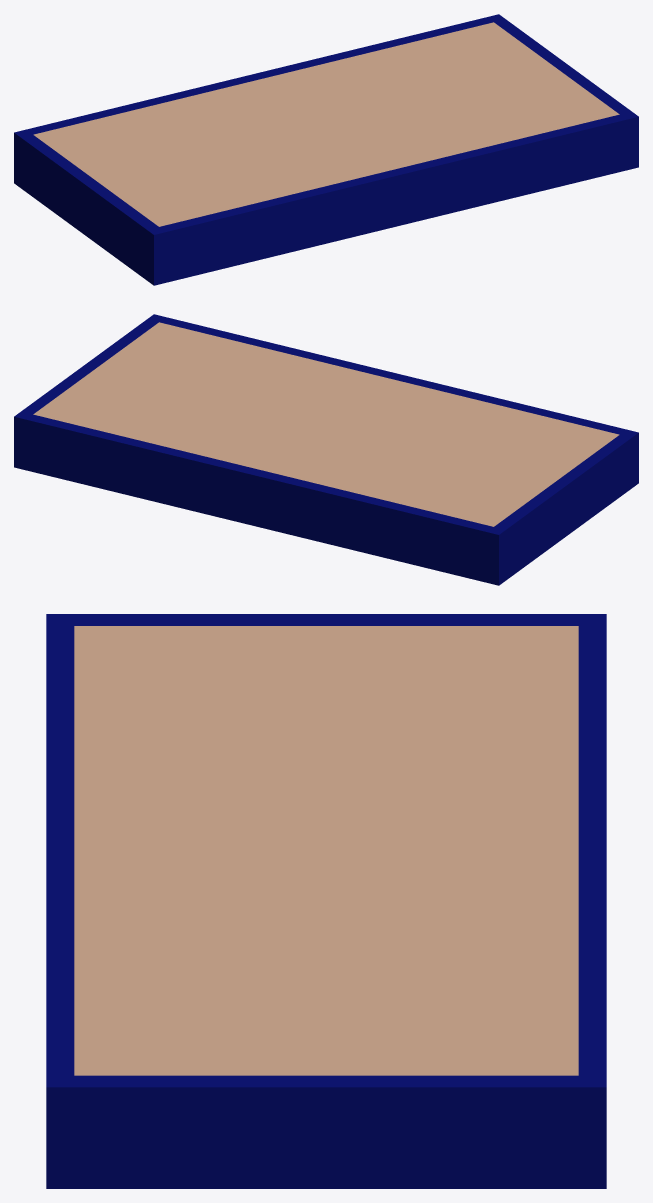
The model's file is SlicedFloor.fbx.
3 renders of one model, top to bottom at view 1: azimuth 30°, elevation 25°; view 2: azimuth 150°, elevation 25°; view 3: azimuth 270°, elevation 25°, orthographic. The views are drawn at different scales.
Parts seen in each view (by area): view 1: Cube; view 2: Cube; view 3: Cube.
Boxes of the visible parts, left/top/right/bottom form: Cube: left=14, top=14, right=638, bottom=285; Cube: left=14, top=314, right=638, bottom=585; Cube: left=46, top=614, right=606, bottom=1188.
Size of the model in its own units: 2000 by 200 by 1000.
